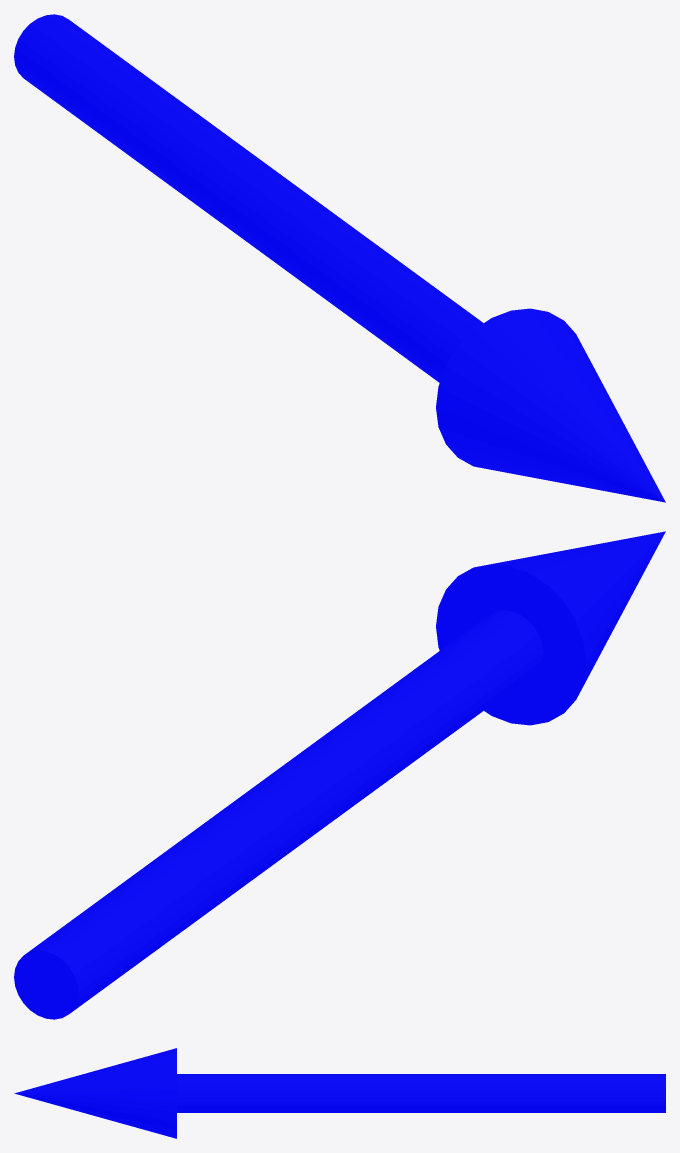
Rendered from move_z.glb.
The picture shows the model from 3 angles, top to bottom: view 1: azimuth 30°, elevation 25°; view 2: azimuth 150°, elevation 25°; view 3: azimuth 270°, elevation 25°; orthographic projection. The views are drawn at different scales.
Visible parts, largest first — view 1: Arrow_Z; view 2: Arrow_Z; view 3: Arrow_Z.
Part boxes in pixels (x1,y1,x2,y2): Arrow_Z: [14, 14, 665, 502]; Arrow_Z: [14, 531, 665, 1019]; Arrow_Z: [14, 1048, 665, 1138].
Size of the model in its own units: 0.14 by 0.14 by 1.
